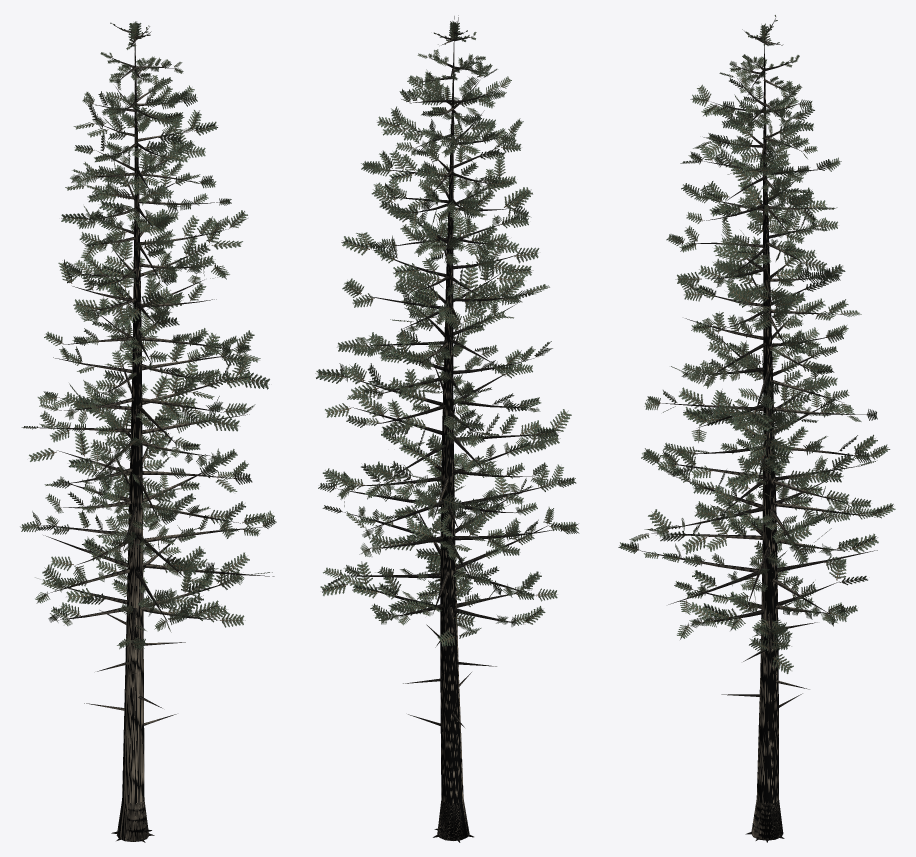
The model's file is Sitka_OldLarge_02_Unpruned_LOD1.fbx.
3 renders of one model, left to right at view 1: azimuth 30°, elevation 25°; view 2: azimuth 150°, elevation 25°; view 3: azimuth 270°, elevation 25°, orthographic.
Visible parts, largest first — view 1: Sitka_OldLarge_02_Unpruned_LOD1; view 2: Sitka_OldLarge_02_Unpruned_LOD1; view 3: Sitka_OldLarge_02_Unpruned_LOD1.
Part boxes in pixels (x1,y1,x2,y2): Sitka_OldLarge_02_Unpruned_LOD1: (20, 21, 276, 842); Sitka_OldLarge_02_Unpruned_LOD1: (315, 15, 579, 842); Sitka_OldLarge_02_Unpruned_LOD1: (618, 15, 895, 842).
Size of the model in its own units: 956 by 3000 by 960.
2 materials, 2 textured.
